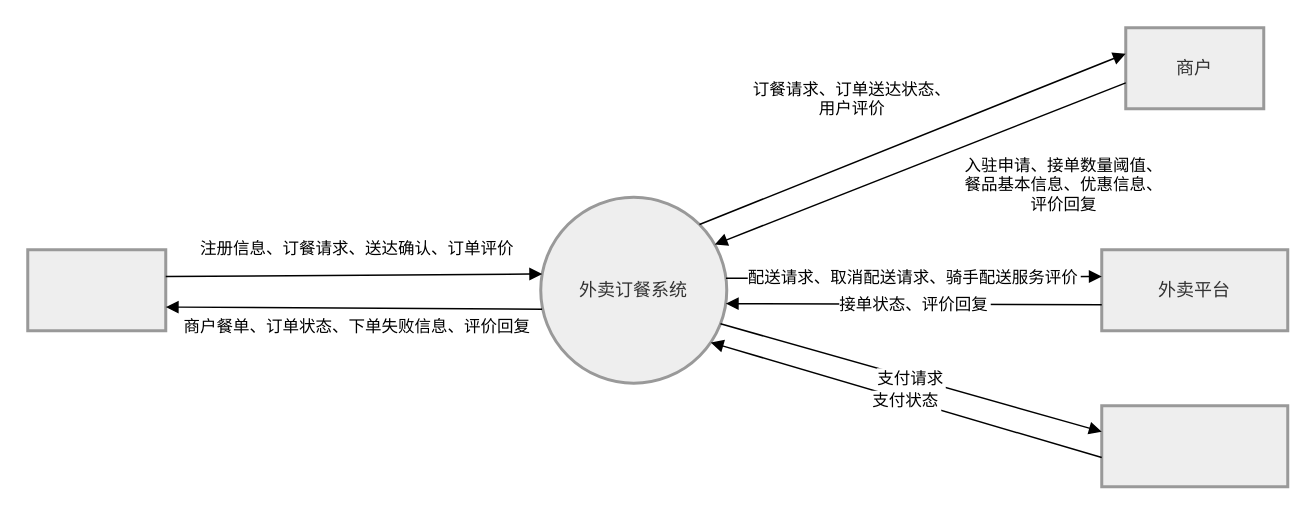
Some shapes in this 1314 by 513 pixel diagram are drawn without their labels. Each missing label, with the centre of its shape:
支付系统: pixel 1194 446
用户: pixel 96 290
